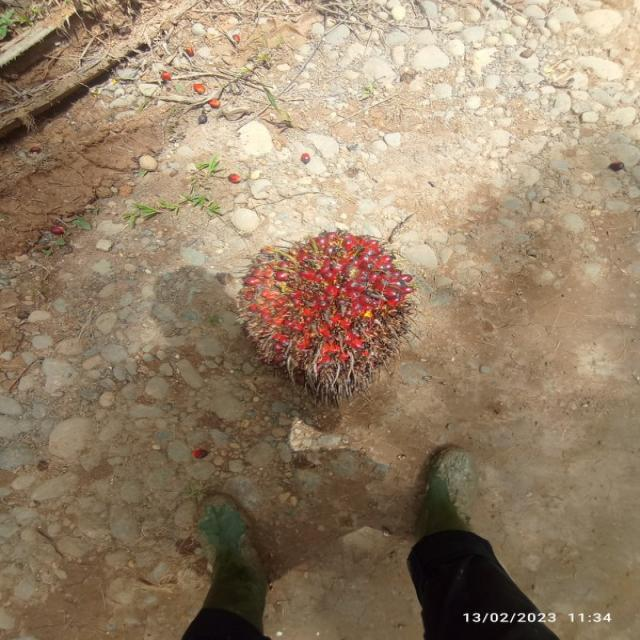fraksi 3: (212, 202, 438, 430)
